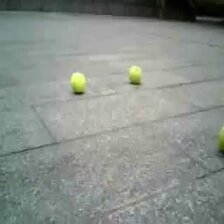tennis: (70, 72, 87, 93), (128, 66, 143, 85)
